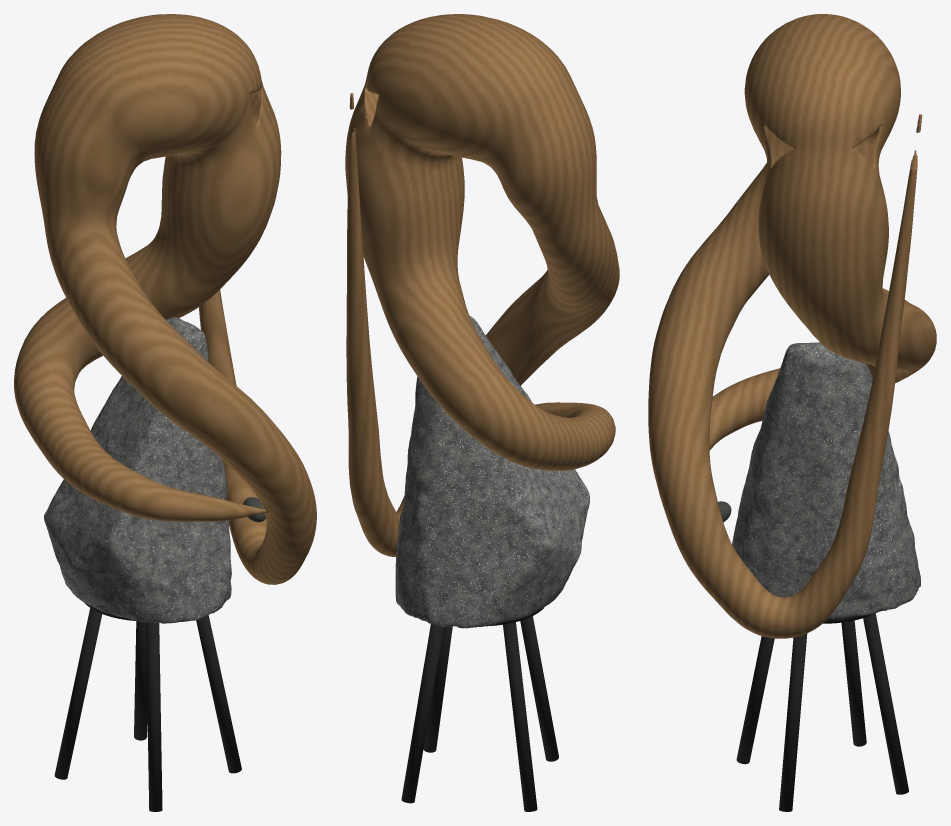
Rendered from karya-01.glb.
The picture shows the model from 3 angles, left to right: view 1: azimuth 30°, elevation 25°; view 2: azimuth 150°, elevation 25°; view 3: azimuth 270°, elevation 25°; orthographic projection.
Visible parts, largest first — view 1: K01_Wood, K01_Rock, K01_Stand; view 2: K01_Wood, K01_Rock, K01_Stand; view 3: K01_Wood, K01_Rock, K01_Stand.
Part boxes in pixels (x1,y1,x2,y2): K01_Wood: [14, 14, 316, 584]; K01_Rock: [44, 317, 231, 623]; K01_Stand: [54, 602, 241, 811]; K01_Wood: [345, 14, 619, 556]; K01_Rock: [395, 315, 589, 628]; K01_Stand: [401, 608, 558, 811]; K01_Wood: [648, 14, 936, 638]; K01_Rock: [732, 342, 920, 618]; K01_Stand: [736, 613, 908, 811].
Size of the model in its own units: 0.2206 by 0.68 by 0.2362.
Materials: 4 (2 with a texture image).
